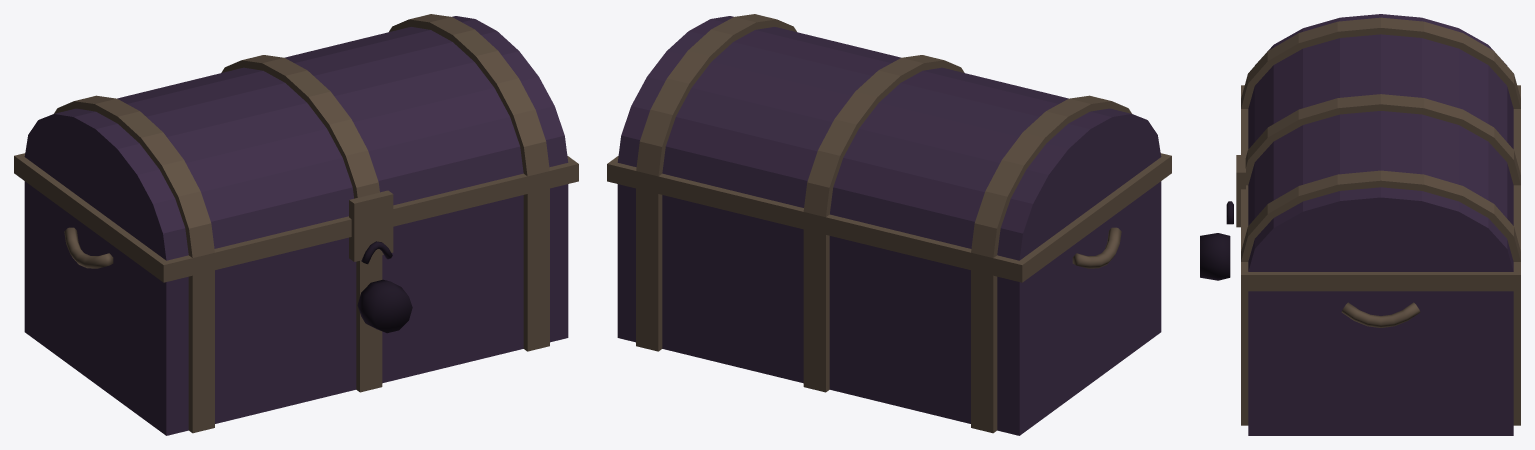
File: chest_painted.glb
3 views of the same model, side by side, from view 1: azimuth 30°, elevation 25°; view 2: azimuth 150°, elevation 25°; view 3: azimuth 270°, elevation 25° (orthographic). The views are drawn at different scales.
Visible parts, largest first — view 1: chest_painted; view 2: chest_painted; view 3: chest_painted.
Boxes of the visible parts, left/top/right/bottom form: chest_painted: left=14, top=14, right=578, bottom=435; chest_painted: left=607, top=14, right=1171, bottom=435; chest_painted: left=1200, top=14, right=1520, bottom=435.
Size of the model in its own units: 0.79 by 0.4484 by 0.532.
